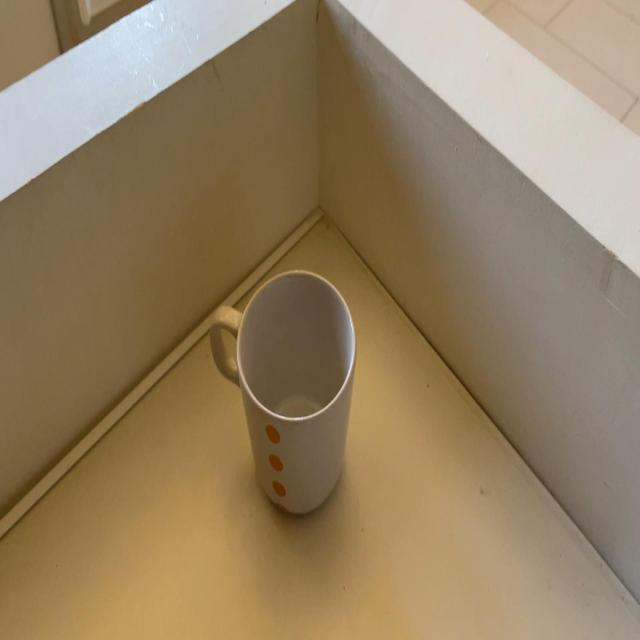cup: (207, 269, 357, 513)
